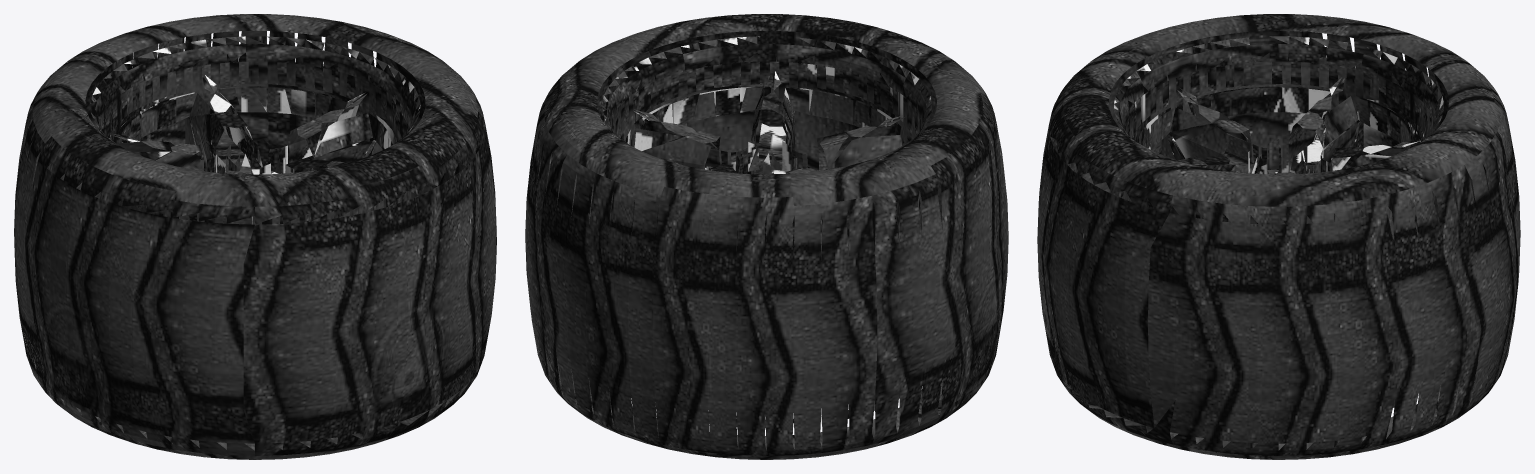
The model's file is wheel_lm.dae.
3 views of the same model, side by side, from view 1: azimuth 30°, elevation 25°; view 2: azimuth 150°, elevation 25°; view 3: azimuth 270°, elevation 25° (orthographic).
Parts seen in each view (by area): view 1: wheel_lm; view 2: wheel_lm; view 3: wheel_lm.
Part boxes in pixels (x1,y1,x2,y2): wheel_lm: [14, 14, 496, 459]; wheel_lm: [525, 14, 1008, 459]; wheel_lm: [1037, 14, 1520, 459].
Bounding box in the file's own units: 0.1574 × 0.1574 × 0.0998.
Materials: 1 (1 with a texture image).
